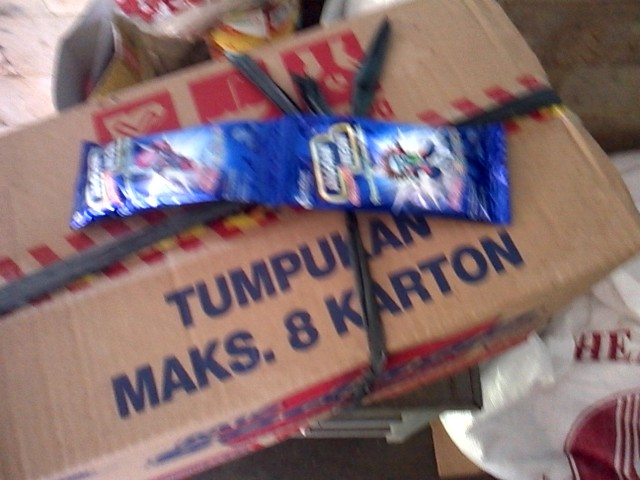jagoan neon: (280, 116, 510, 225), (69, 119, 280, 231)
